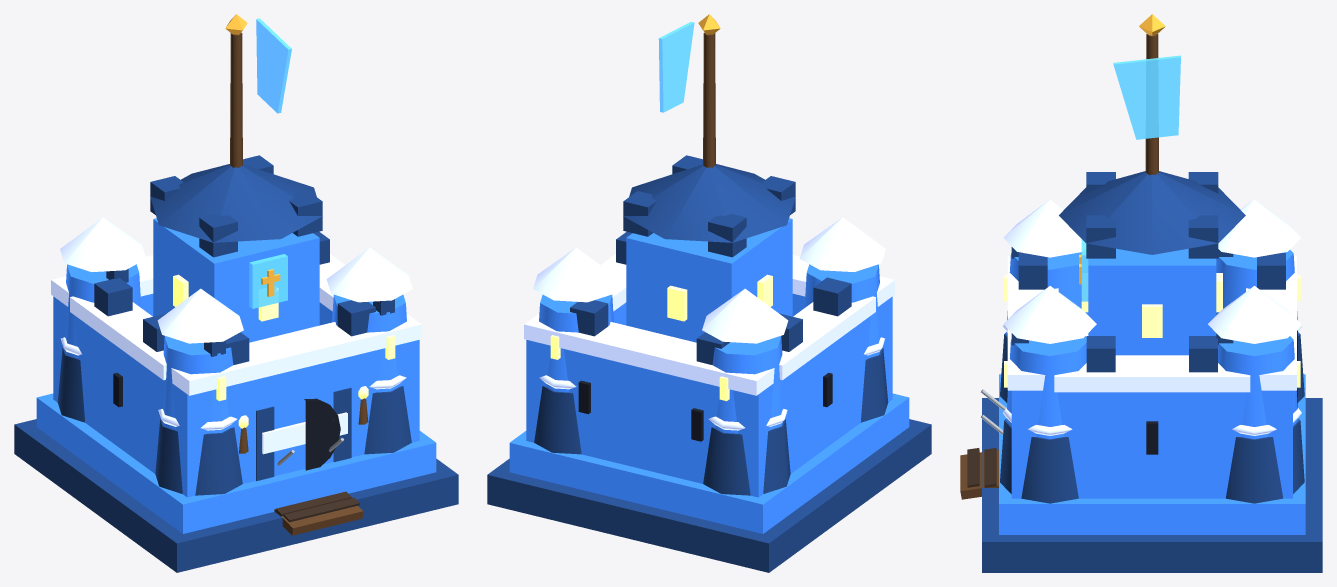
Rendered from castle.glb.
3 views of the same model, side by side, from view 1: azimuth 30°, elevation 25°; view 2: azimuth 150°, elevation 25°; view 3: azimuth 270°, elevation 25° (orthographic). The views are drawn at different scales.
Visible parts, largest first — view 1: ooxxRig, ooxxBanner; view 2: ooxxRig, ooxxBanner; view 3: ooxxRig, ooxxBanner.
Part boxes in pixels (left/top/right/bottom): ooxxRig: left=14, top=155, right=458, bottom=572; ooxxBanner: left=225, top=14, right=291, bottom=167; ooxxRig: left=487, top=155, right=931, bottom=572; ooxxBanner: left=658, top=14, right=720, bottom=167; ooxxRig: left=960, top=171, right=1322, bottom=572; ooxxBanner: left=1113, top=14, right=1180, bottom=174.
Size of the model in its own units: 0.7603 by 1.2 by 0.8087.
